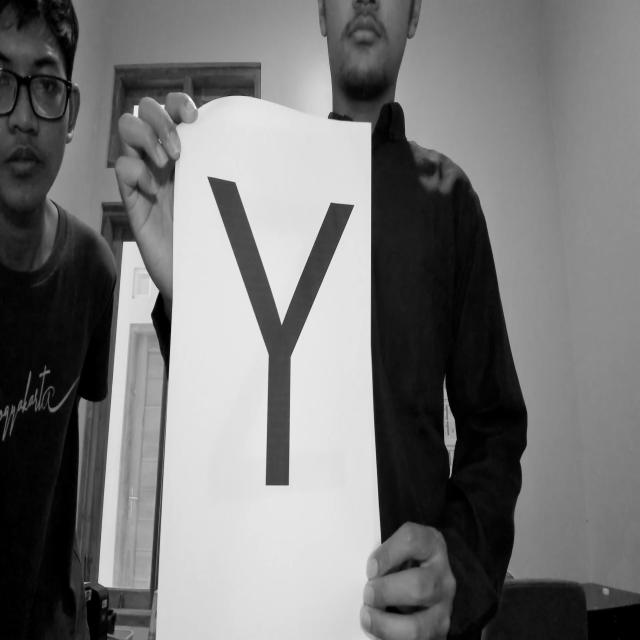y: (197, 142, 366, 532)
